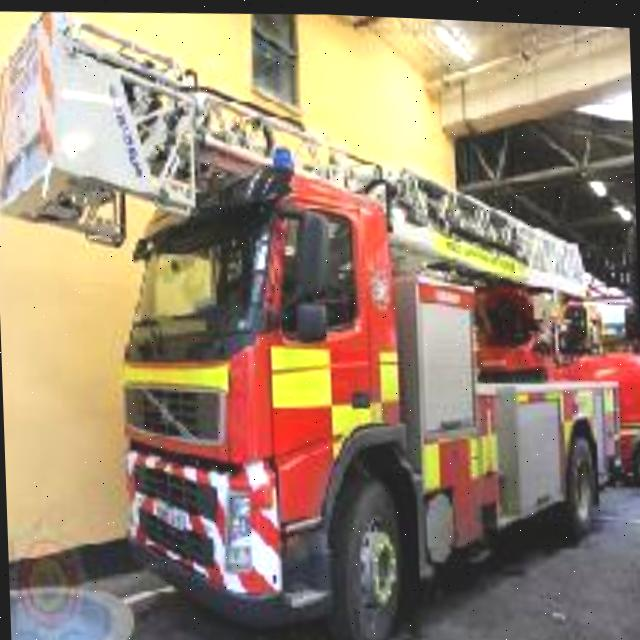emergency: (80, 108, 637, 640)
